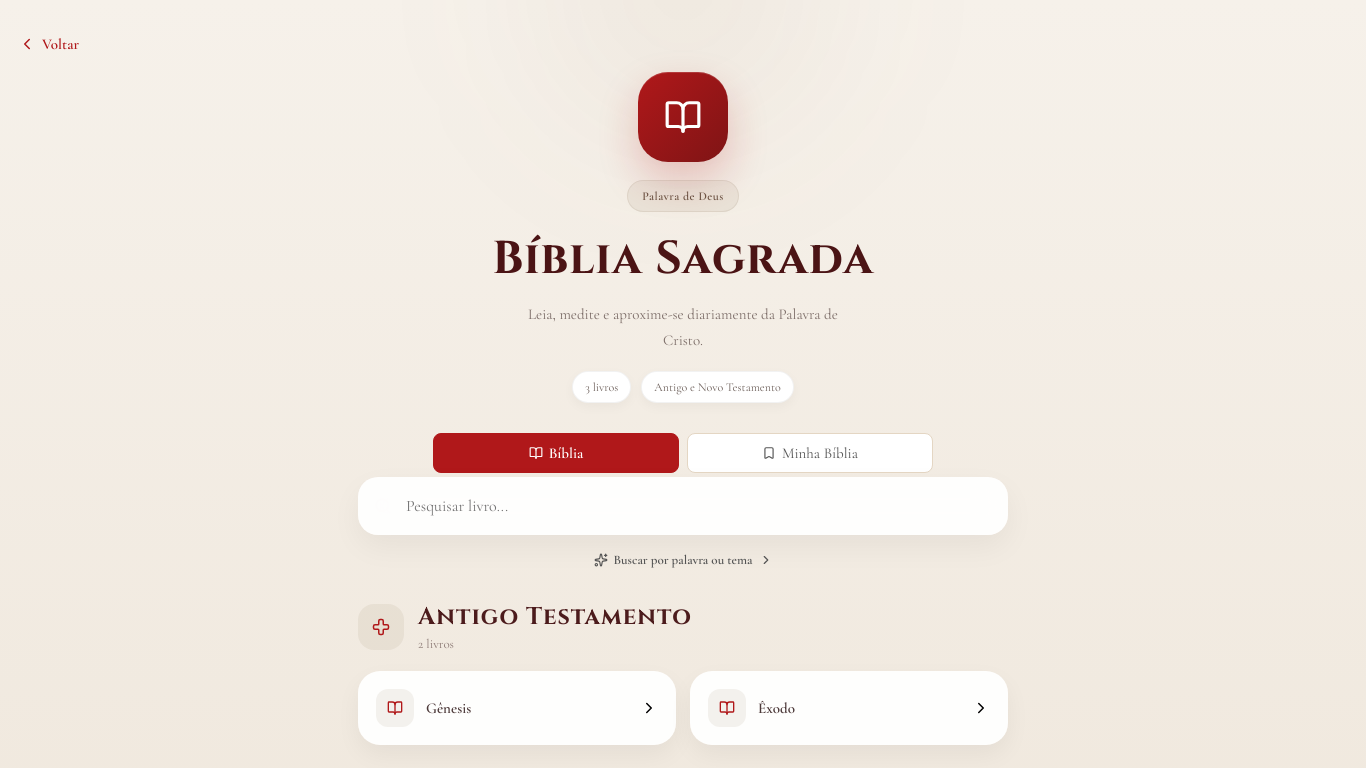
Test: BibliaHome › filters books by an accent-insensitive search
Type "exodo" into the search field with placeholder "Pesquisar livro..." at (683, 506), box [358,477,1008,535]
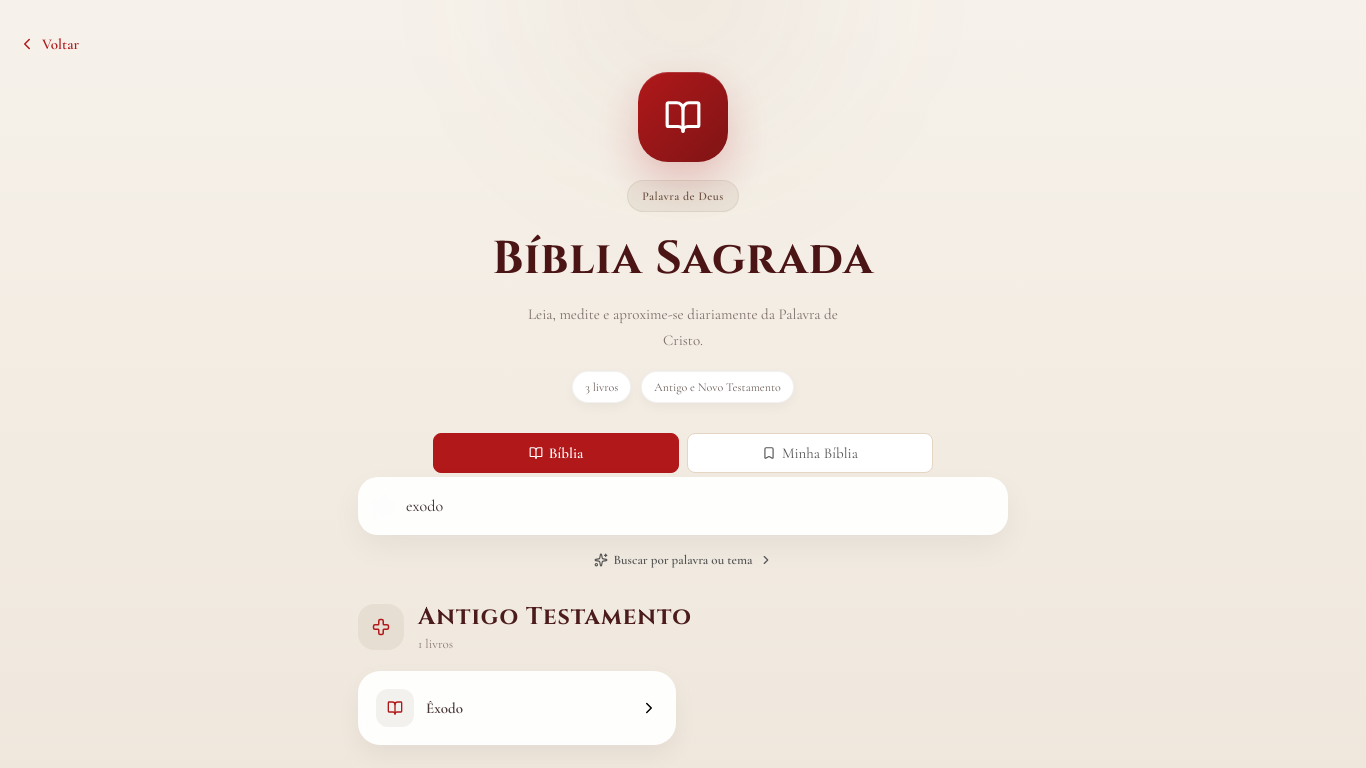
Expected: the text "Êxodo" is shown, [426,699,463,717]
Expected: the button "Gênesis" is gone
